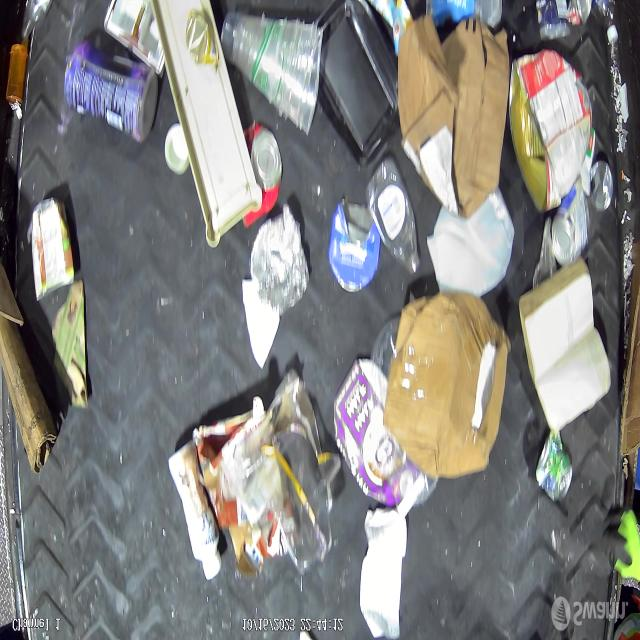can: (509, 49, 593, 215), (329, 202, 381, 292), (31, 197, 75, 302), (245, 123, 282, 229), (552, 174, 590, 268), (536, 429, 573, 503)
milk_jug: (427, 186, 516, 297)
non_white_jug: (333, 358, 427, 518)
plastic_bottle: (366, 158, 420, 276), (592, 0, 619, 46)
